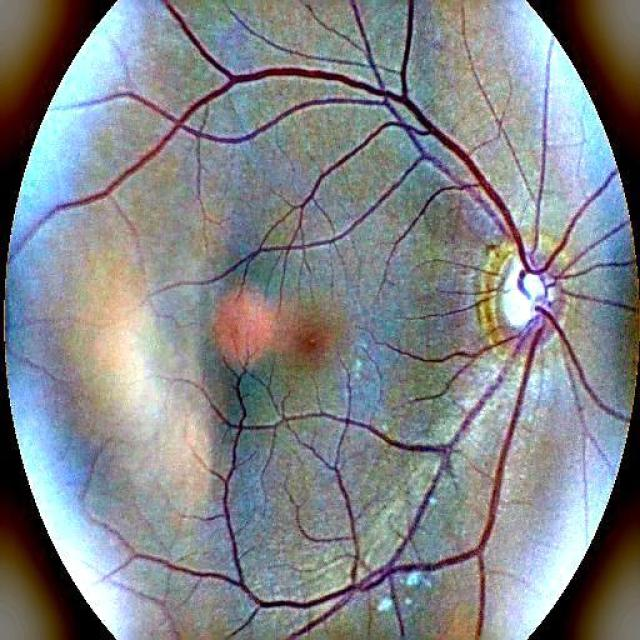Macula: (212, 289, 332, 364)
Nerves: (366, 88, 552, 272), (476, 320, 542, 639), (535, 304, 615, 414), (164, 0, 242, 80), (252, 68, 364, 88), (100, 160, 140, 194), (520, 264, 539, 279)
Optic Disk: (496, 255, 555, 330)
